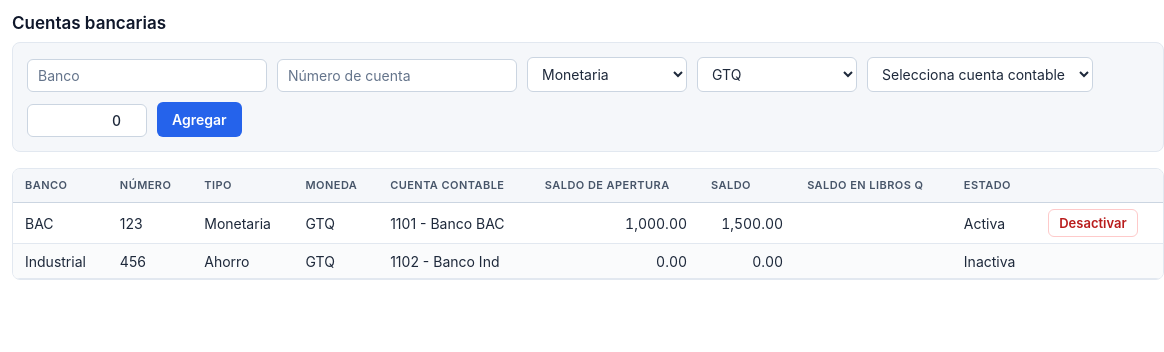
Test: CuentasBancarias › muestra el error del servidor y el mensaje por defecto al crear
The image size is (1164, 352).
In the field labelled "Banco": (147, 76) [27,59,267,92], type " Banrural "
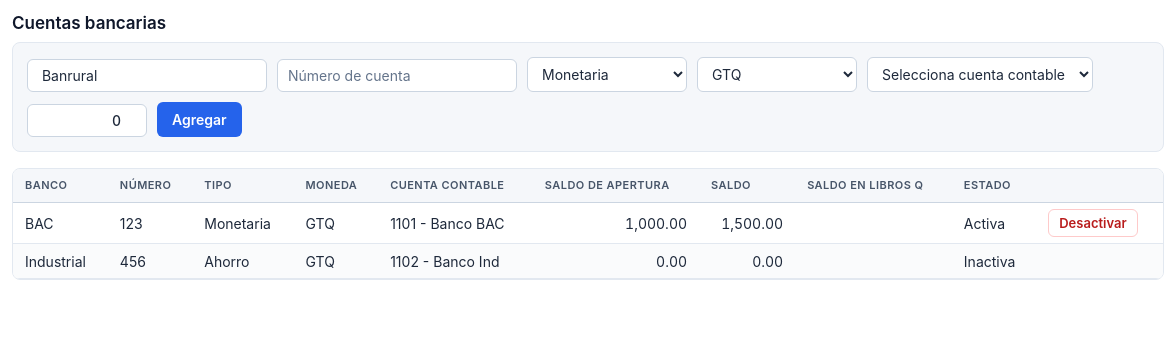
In the field labelled "Número de cuenta": (397, 76) [277,59,517,92], type "999"
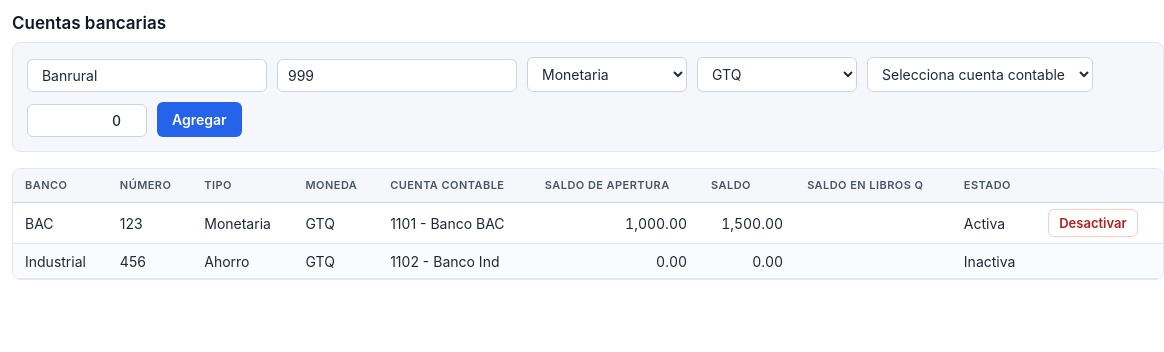
Select "1101 - Banco BAC" in the dropdown named "Cuenta contable": (980, 75) [867,57,1093,92]
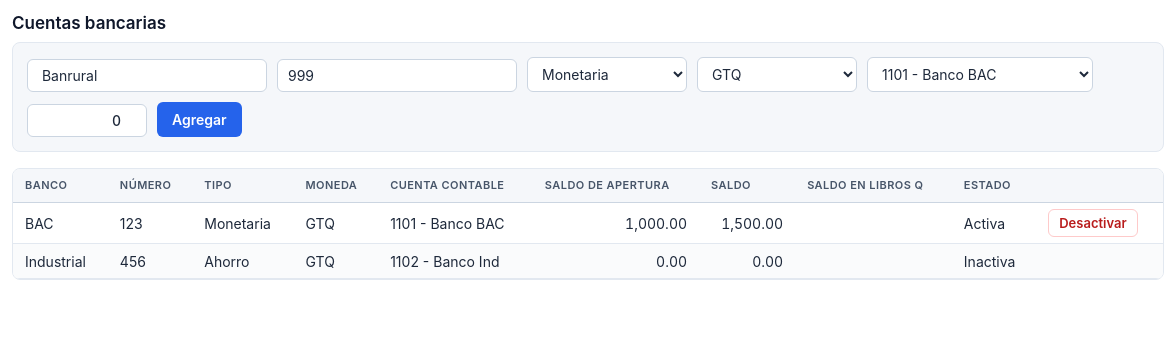
Click the button "Agregar": (199, 120) [157,102,242,138]
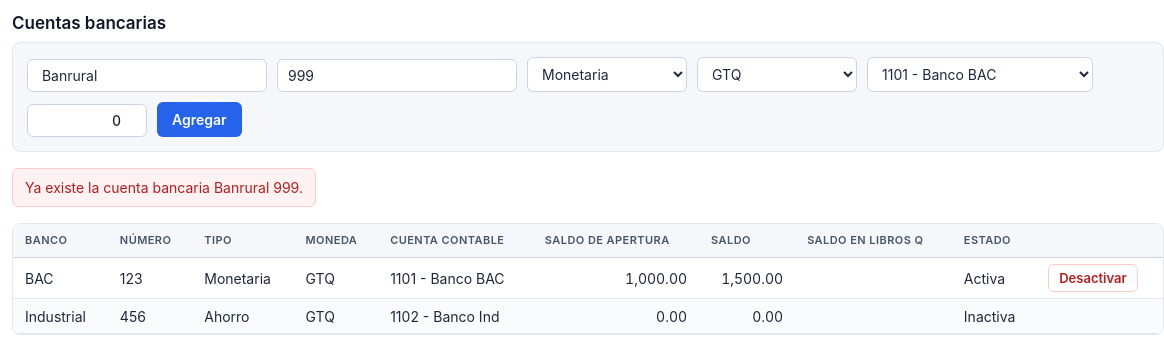
Now the text "Ya existe la cuenta bancaria Banrural 999." is shown, box [12,168,316,208]
Click the button "Agregar": (199, 120) [157,102,242,138]
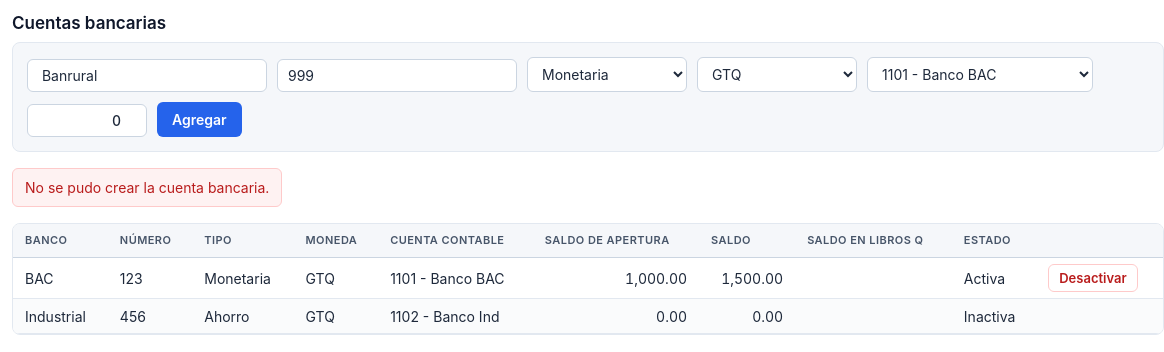
Now the text "No se pudo crear la cuenta bancaria." is shown, box [12,168,282,208]
